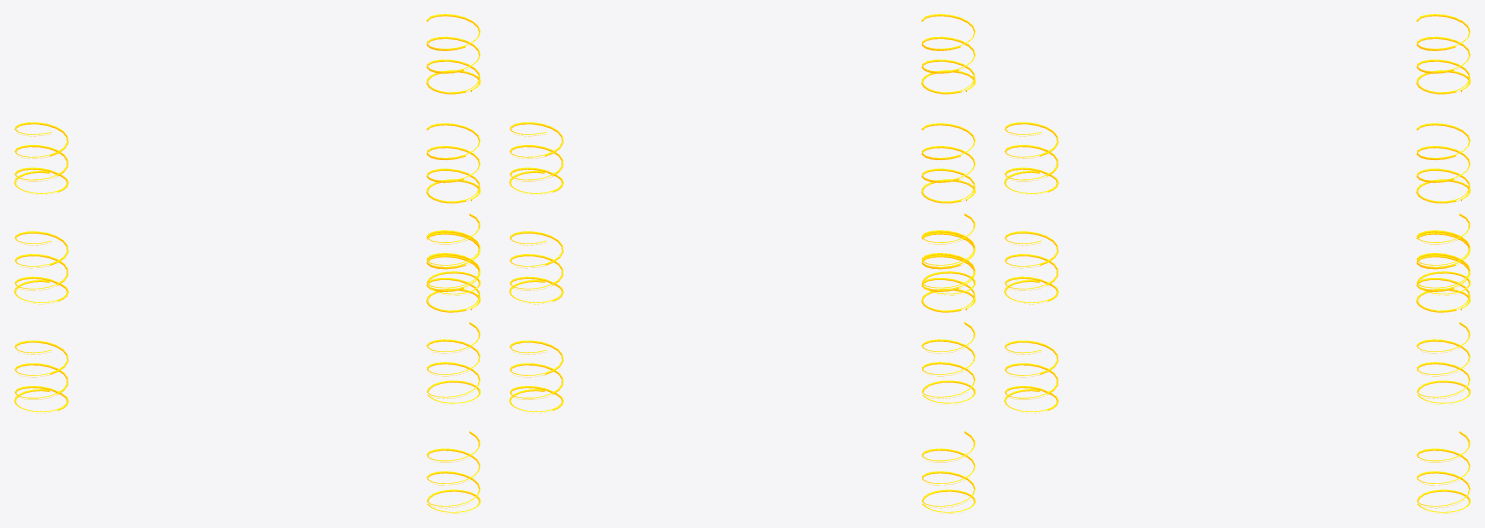
The model's file is EmissiveArancio.glb.
3 renders of one model, left to right at view 1: azimuth 30°, elevation 25°; view 2: azimuth 150°, elevation 25°; view 3: azimuth 270°, elevation 25°, orthographic.
Parts seen in each view (by area): view 1: emissive_arancione_g; view 2: emissive_arancione_g; view 3: emissive_arancione_g.
Boxes of the visible parts, x1=… form: emissive_arancione_g: x1=14, y1=14, x2=480, y2=513; emissive_arancione_g: x1=509, y1=14, x2=975, y2=513; emissive_arancione_g: x1=1004, y1=14, x2=1470, y2=513.
Size of the model in its own units: 26.49 by 15.47 by 23.31.
